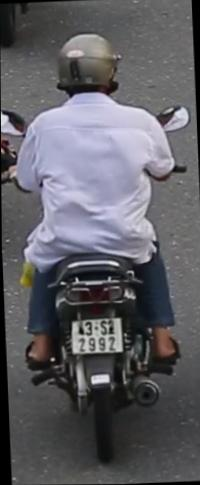LP: (67, 311, 125, 357)
helmet: (51, 27, 122, 113)
